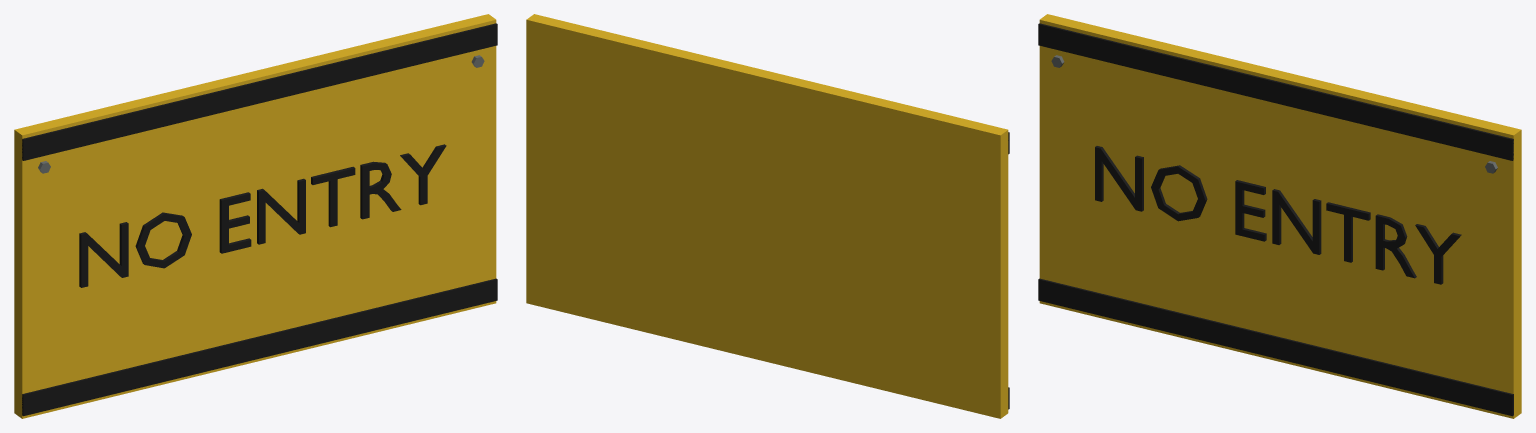
File: warning_sign_noentry.glb
3 renders of one model, left to right at view 1: azimuth 30°, elevation 25°; view 2: azimuth 150°, elevation 25°; view 3: azimuth 330°, elevation 25°, orthographic.
Parts seen in each view (by area): view 1: warning_sign_noentry; view 2: warning_sign_noentry; view 3: warning_sign_noentry.
Boxes of the visible parts, x1=… form: warning_sign_noentry: x1=14, y1=14, x2=497, y2=418; warning_sign_noentry: x1=526, y1=14, x2=1009, y2=418; warning_sign_noentry: x1=1038, y1=14, x2=1521, y2=418.
Bounding box in the file's own units: 0.7 × 0.4 × 0.028.
